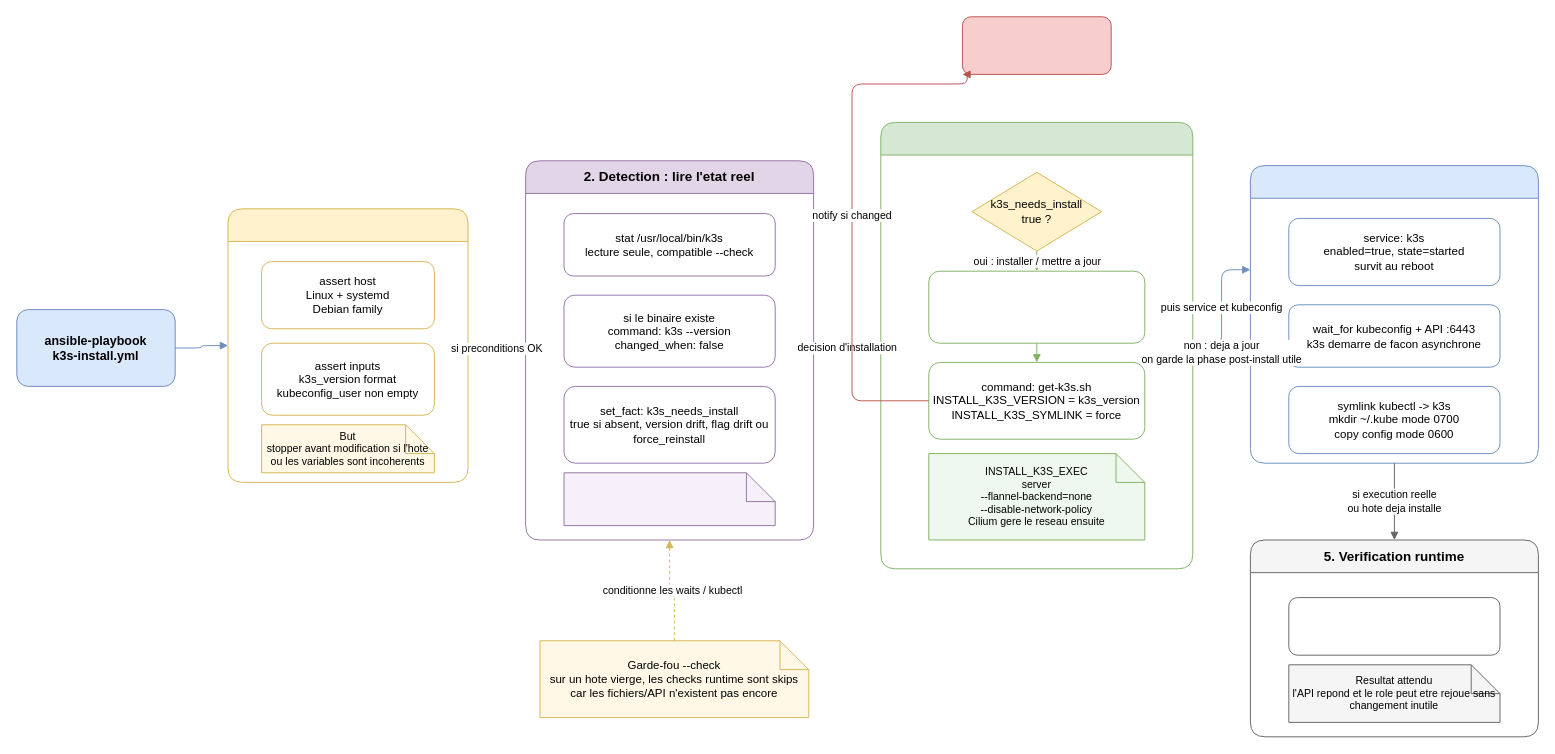
Some shapes in this 1555 by 754 pixel diagram are drawn without their labels. The shapes that lost their labels are listed below. From the top down, each one's box as (x1, y1, x2, y2) in pixels, then its label:
(961, 16, 1111, 74): handler restart k3s une fois en fin de play
(928, 270, 1145, 343): package: curl get_url: get.k3s.io -> get-k3s.sh mode 0755
(1249, 165, 1538, 463): 4. Post-install : exposer kubeconfig
(227, 208, 468, 482): 1. Preflight : echouer tot
(880, 121, 1193, 569): 3. Convergence : changer si necessaire
(563, 472, 775, 526): Point cle une seule decision booleenne pilote l'idempotence des taches suivantes
(1288, 597, 1500, 655): kubectl get nodes changed_when: false
